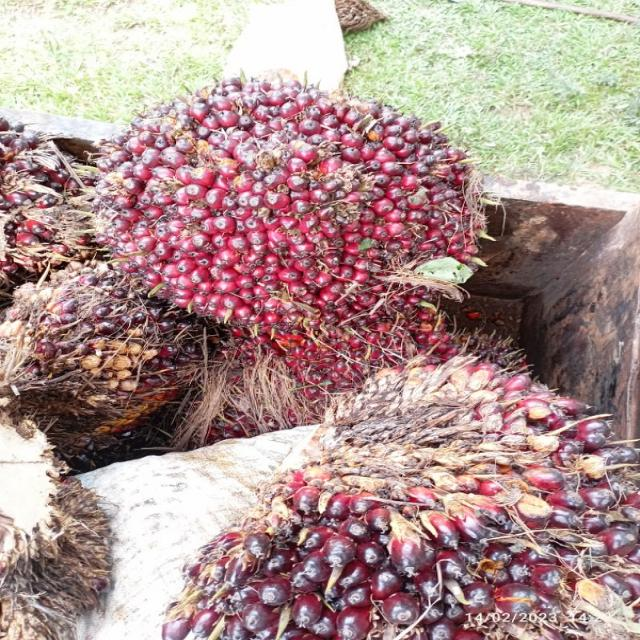fraksi 1: (35, 11, 559, 408)
